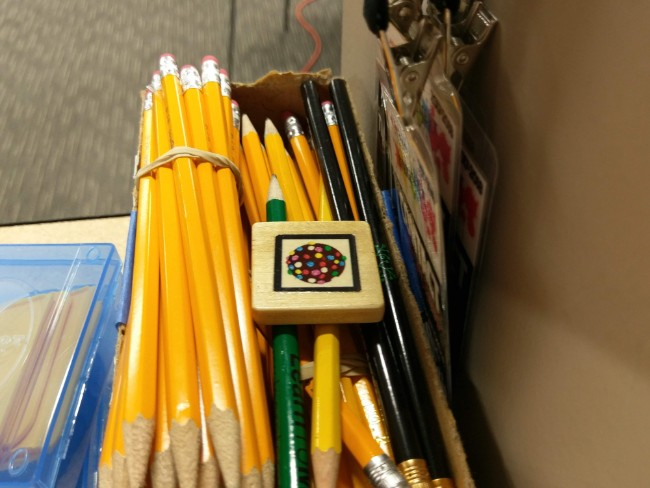cookie: (267, 228, 367, 299)
